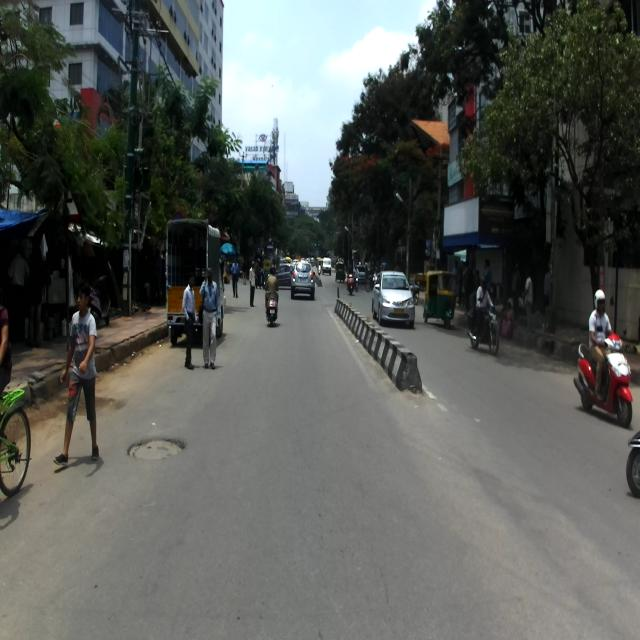motorcycle ahead at: (570, 328, 636, 426)
person ahead at: (56, 282, 104, 473)
